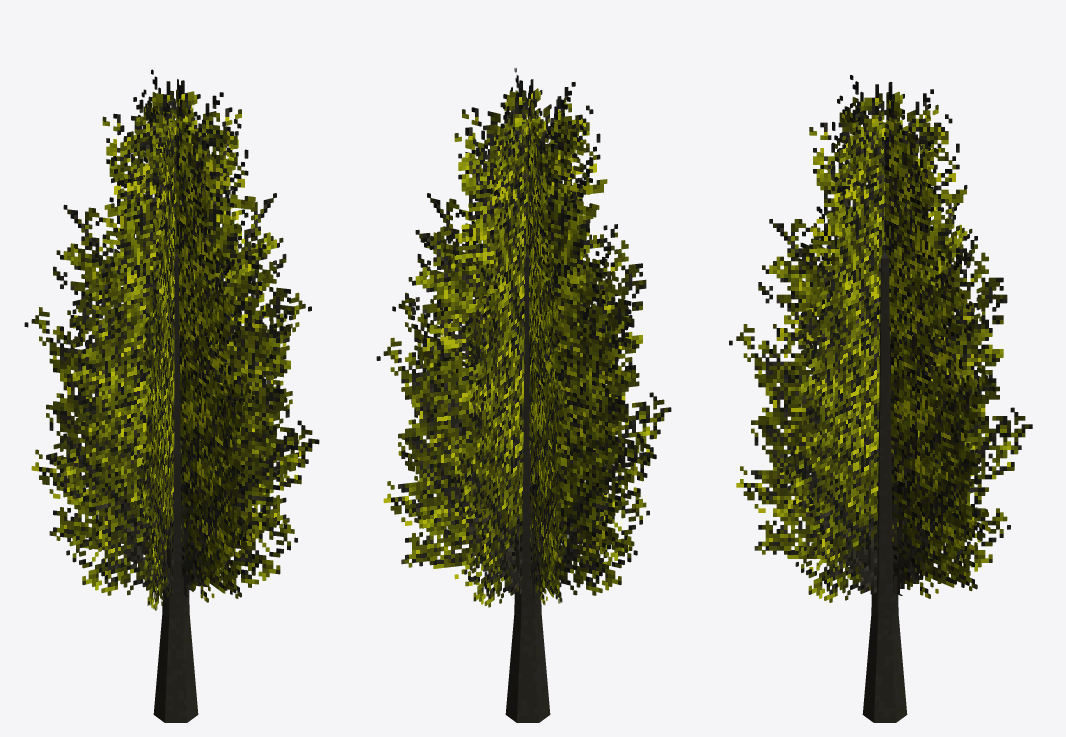
The model's file is tree13.glb.
The picture shows the model from 3 angles, left to right: view 1: azimuth 30°, elevation 25°; view 2: azimuth 150°, elevation 25°; view 3: azimuth 270°, elevation 25°; orthographic projection.
Parts seen in each view (by area): view 1: tree13; view 2: tree13; view 3: tree13.
Boxes of the visible parts, x1,y1,x2,y2 form: tree13: (24,69,319,722); tree13: (376,68,671,722); tree13: (729,75,1032,722).
Size of the model in its own units: 3.84 by 8 by 3.84.
1 material, 1 textured.
